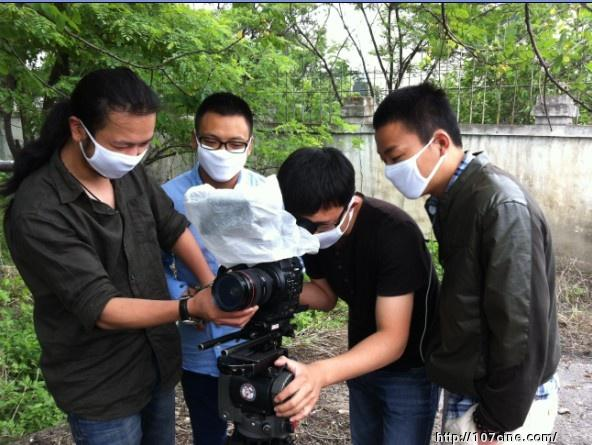OK: (380, 140, 441, 199), (94, 124, 151, 181), (198, 128, 249, 183), (292, 210, 344, 251)
